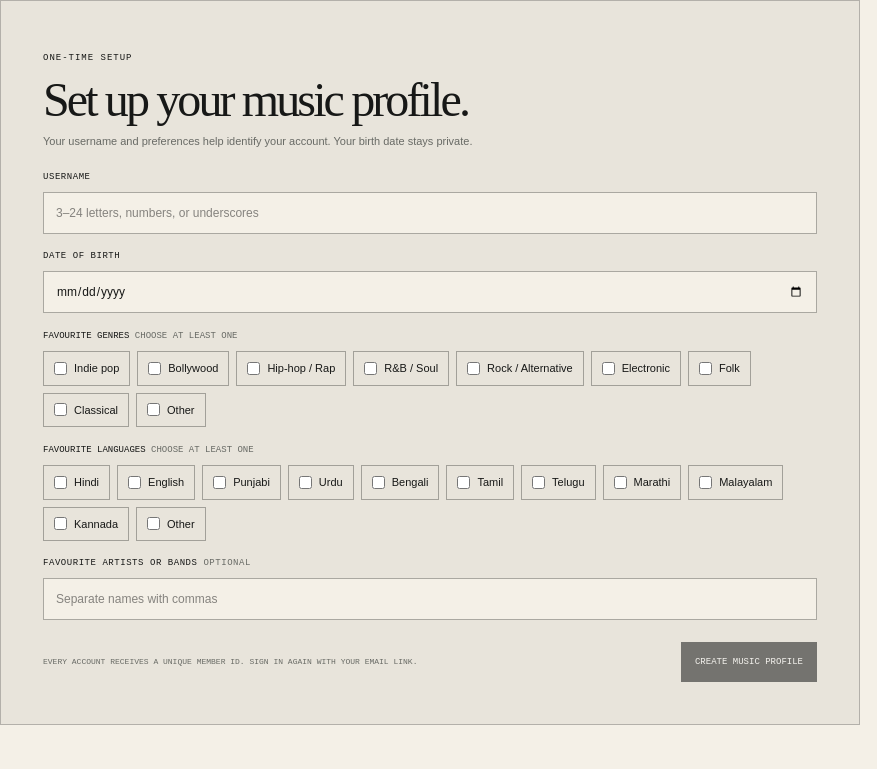
Test: music member profile setup › saves username, private birth date, music preferences and favourite artists
The width and height of the screenshot is (877, 769).
Type "mayankfan" into the field labelled "Username" at (430, 213), box [43, 192, 817, 234]
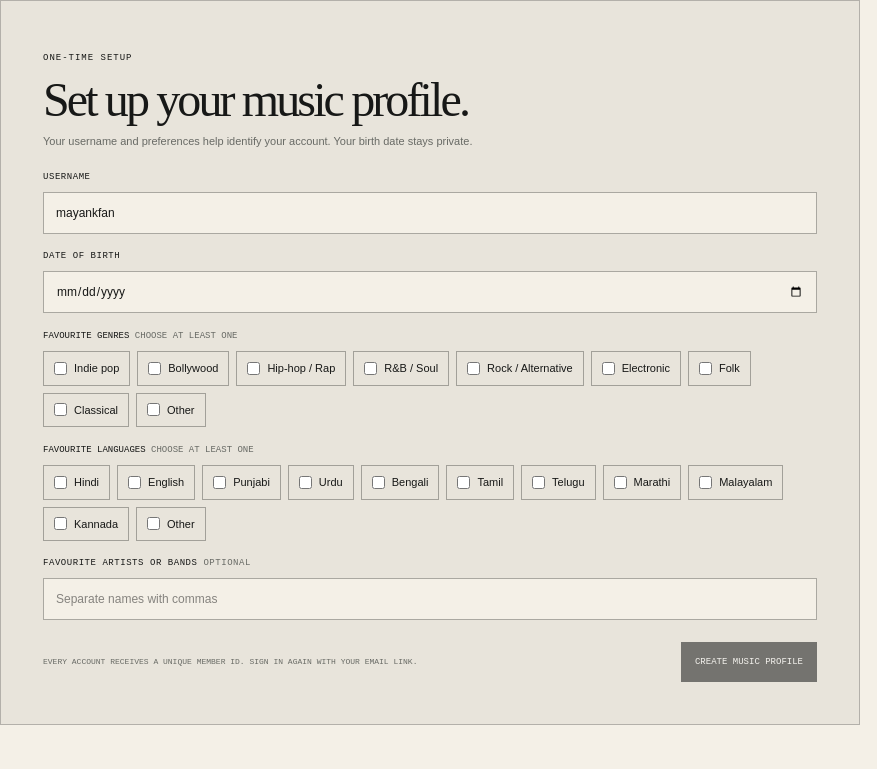
Type "1990-01-02" into the date field labelled "Date of birth" at (430, 292), box [43, 271, 817, 313]
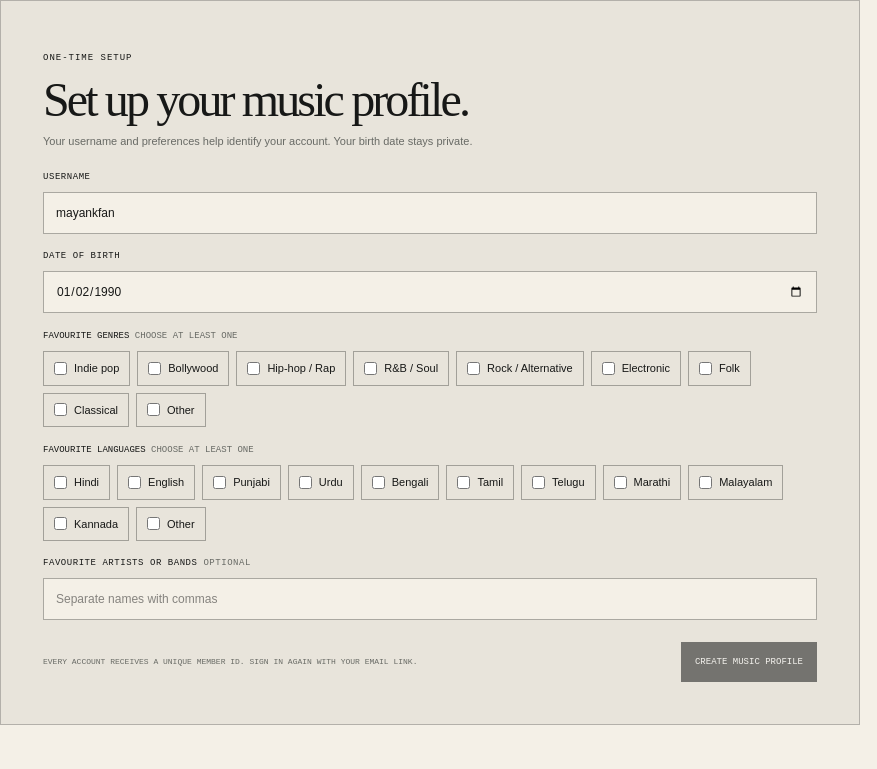
Click the checkbox labelled "Indie pop" at (60, 368), box [54, 362, 67, 375]
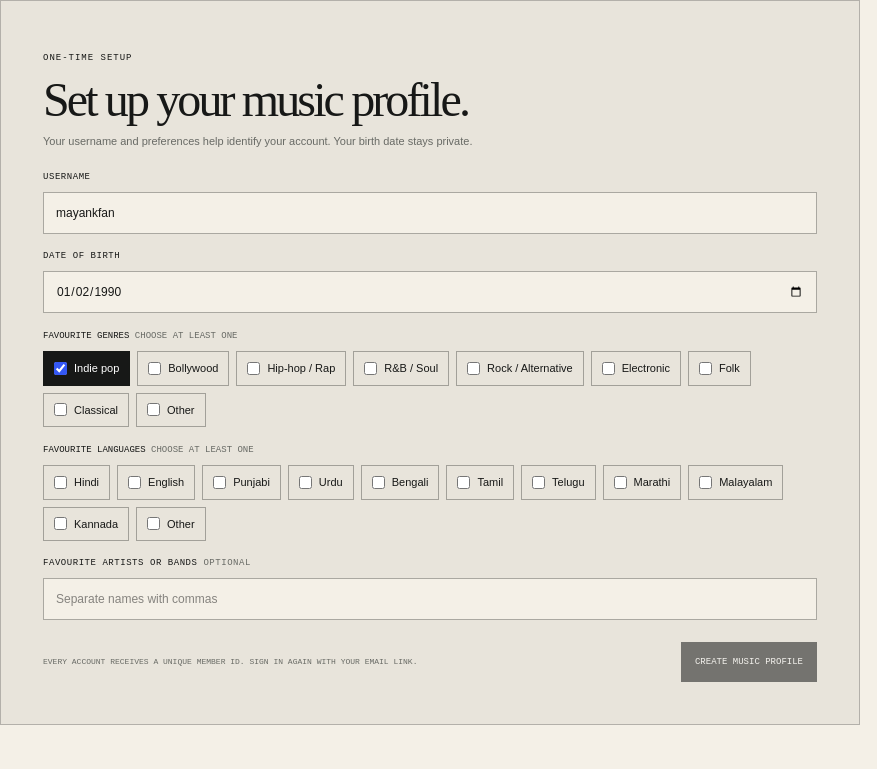
Click the checkbox labelled "Hindi" at (60, 482), box [54, 476, 67, 489]
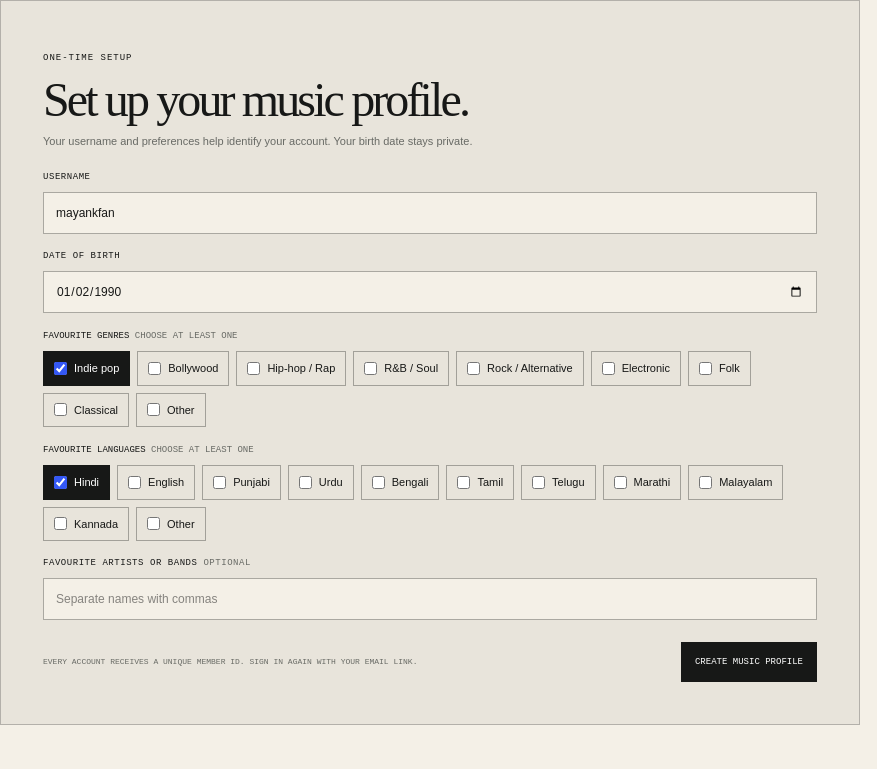
Type "Radiohead, Arijit Singh" into the field labelled "Favourite artists or bands Optional" at (430, 599), box [43, 578, 817, 620]
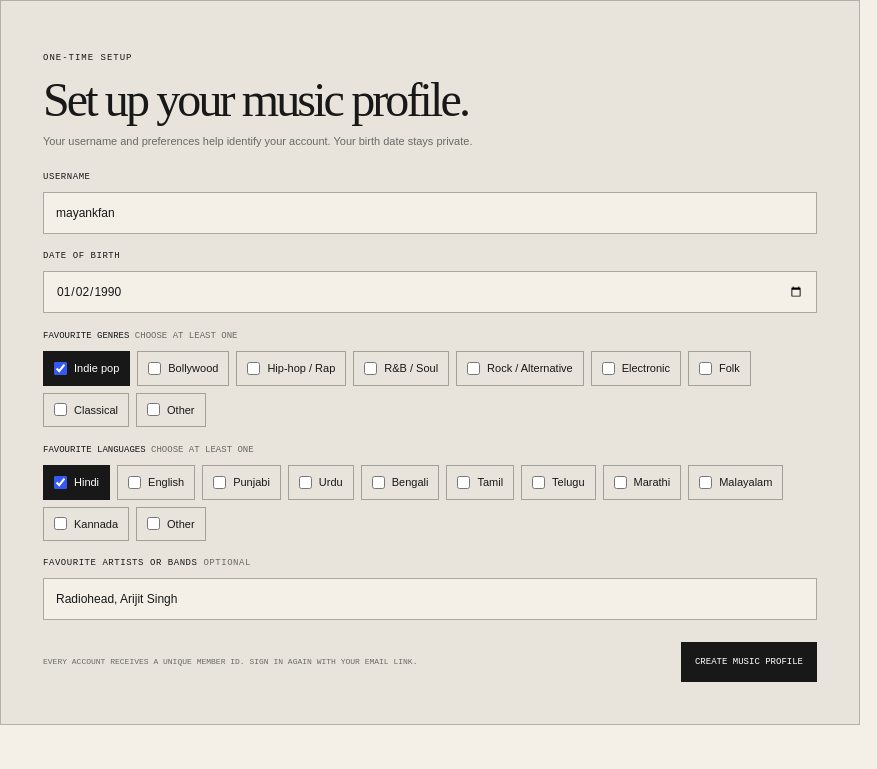
Click the button "Create music profile" at (749, 662), box [681, 642, 817, 682]
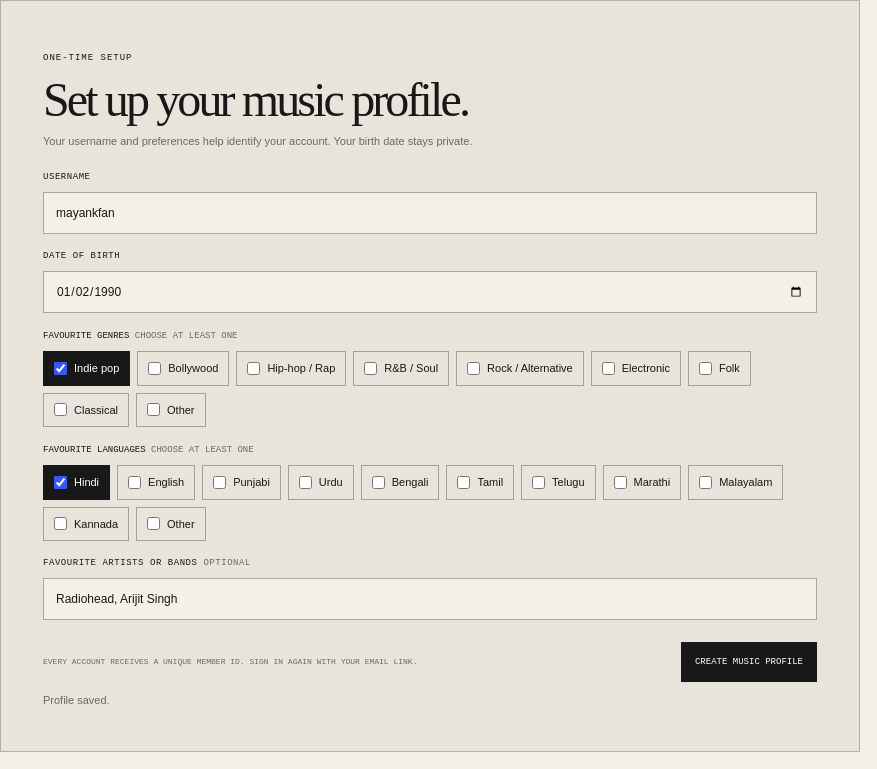
Result: the message reads "Profile saved." at [43, 694, 110, 706]
